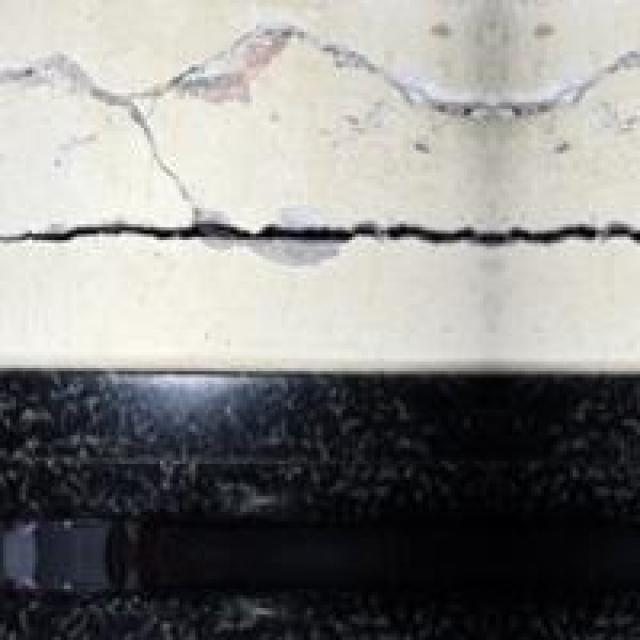crack: (0, 168, 640, 296)
